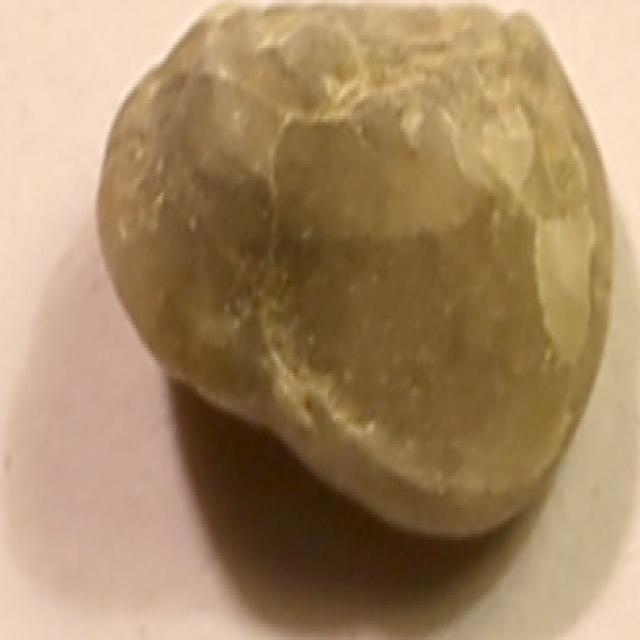stone: (97, 0, 620, 548)
